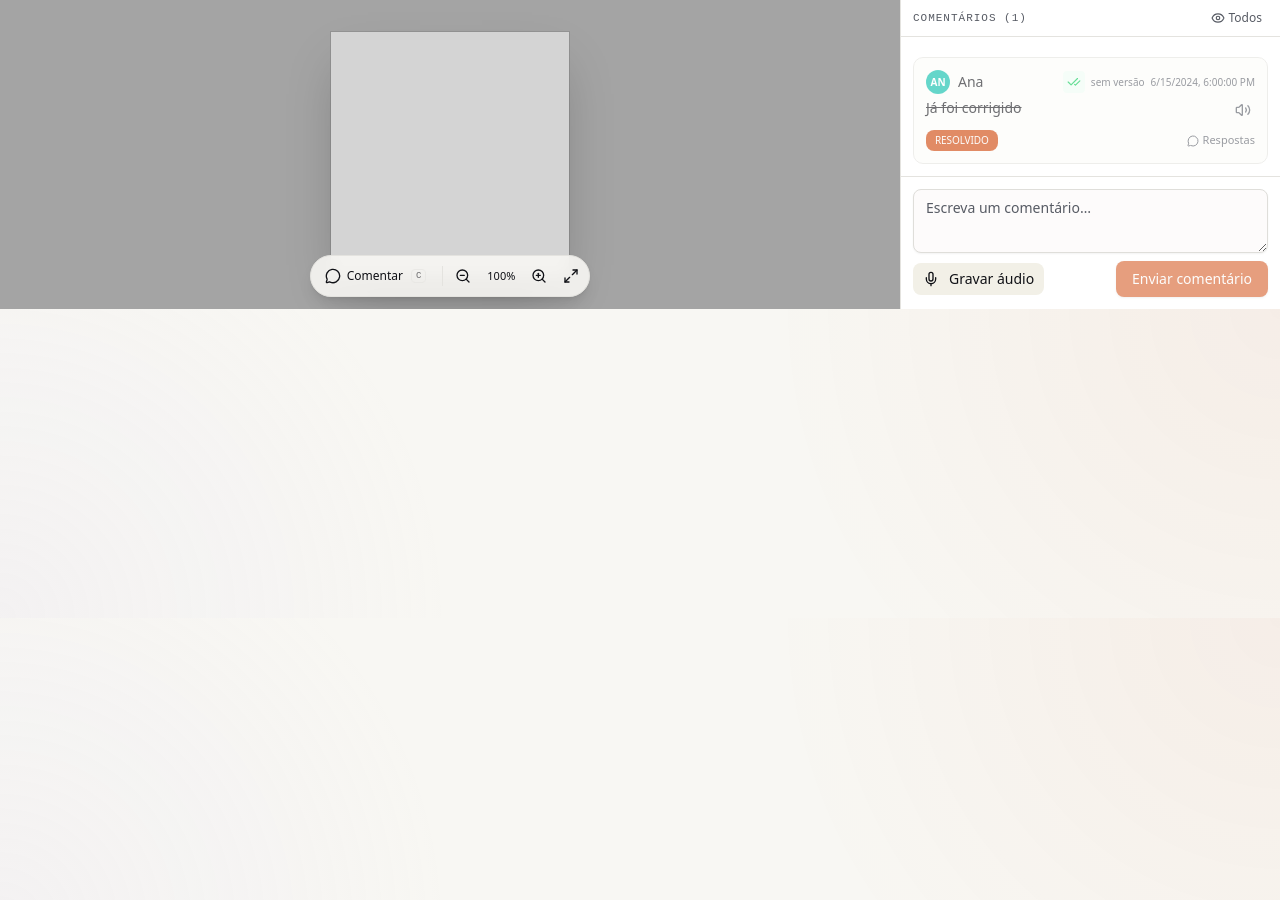
Test case: FeedbackViewer › shows 'Nenhum comentário em aberto.' when all are resolved and filter is on
Step 1. Click the button "Todos" → (1236, 18), box [1204,8,1268,28]
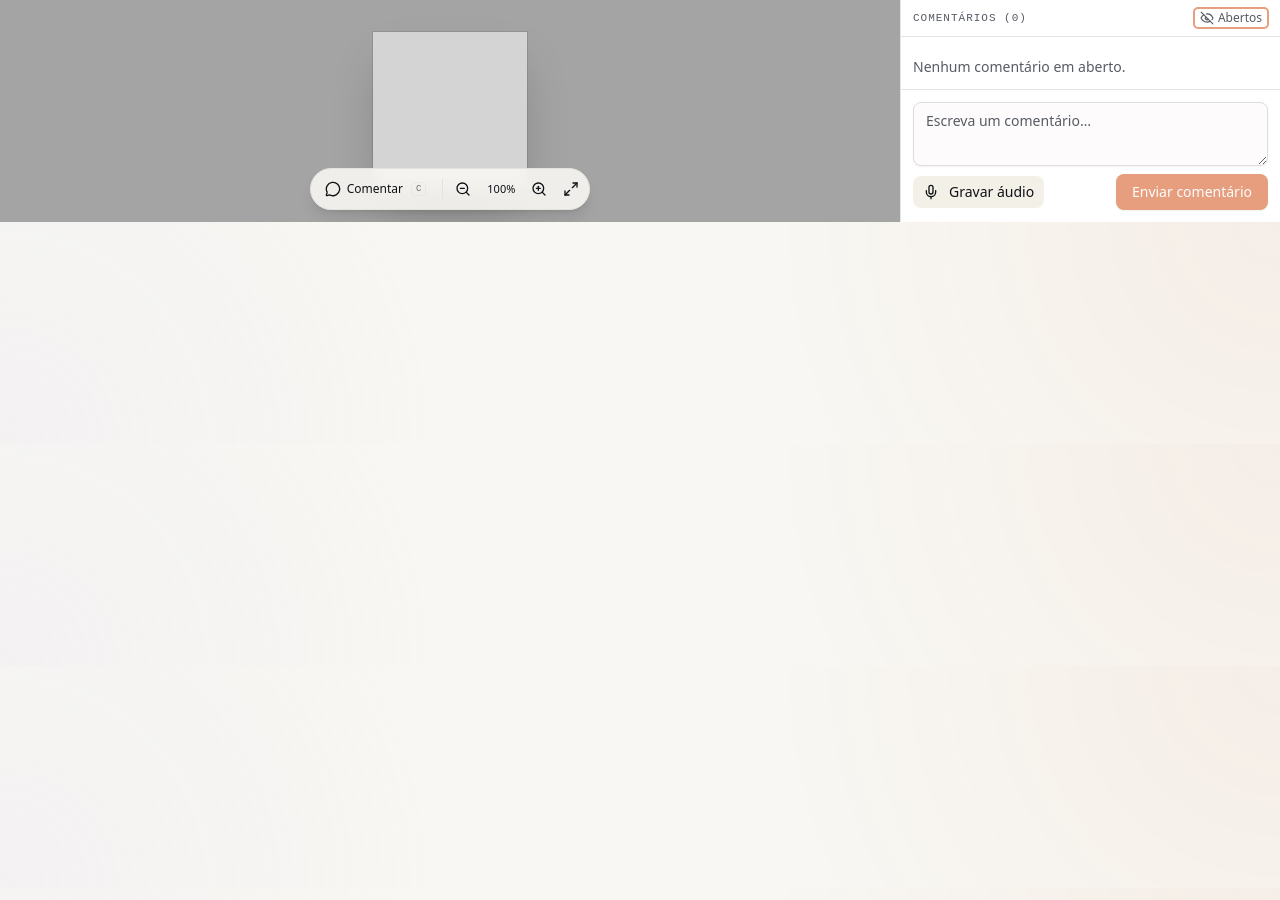
Result: the list item "Nenhum comentário em aberto." is shown at [913,57,1126,76]
